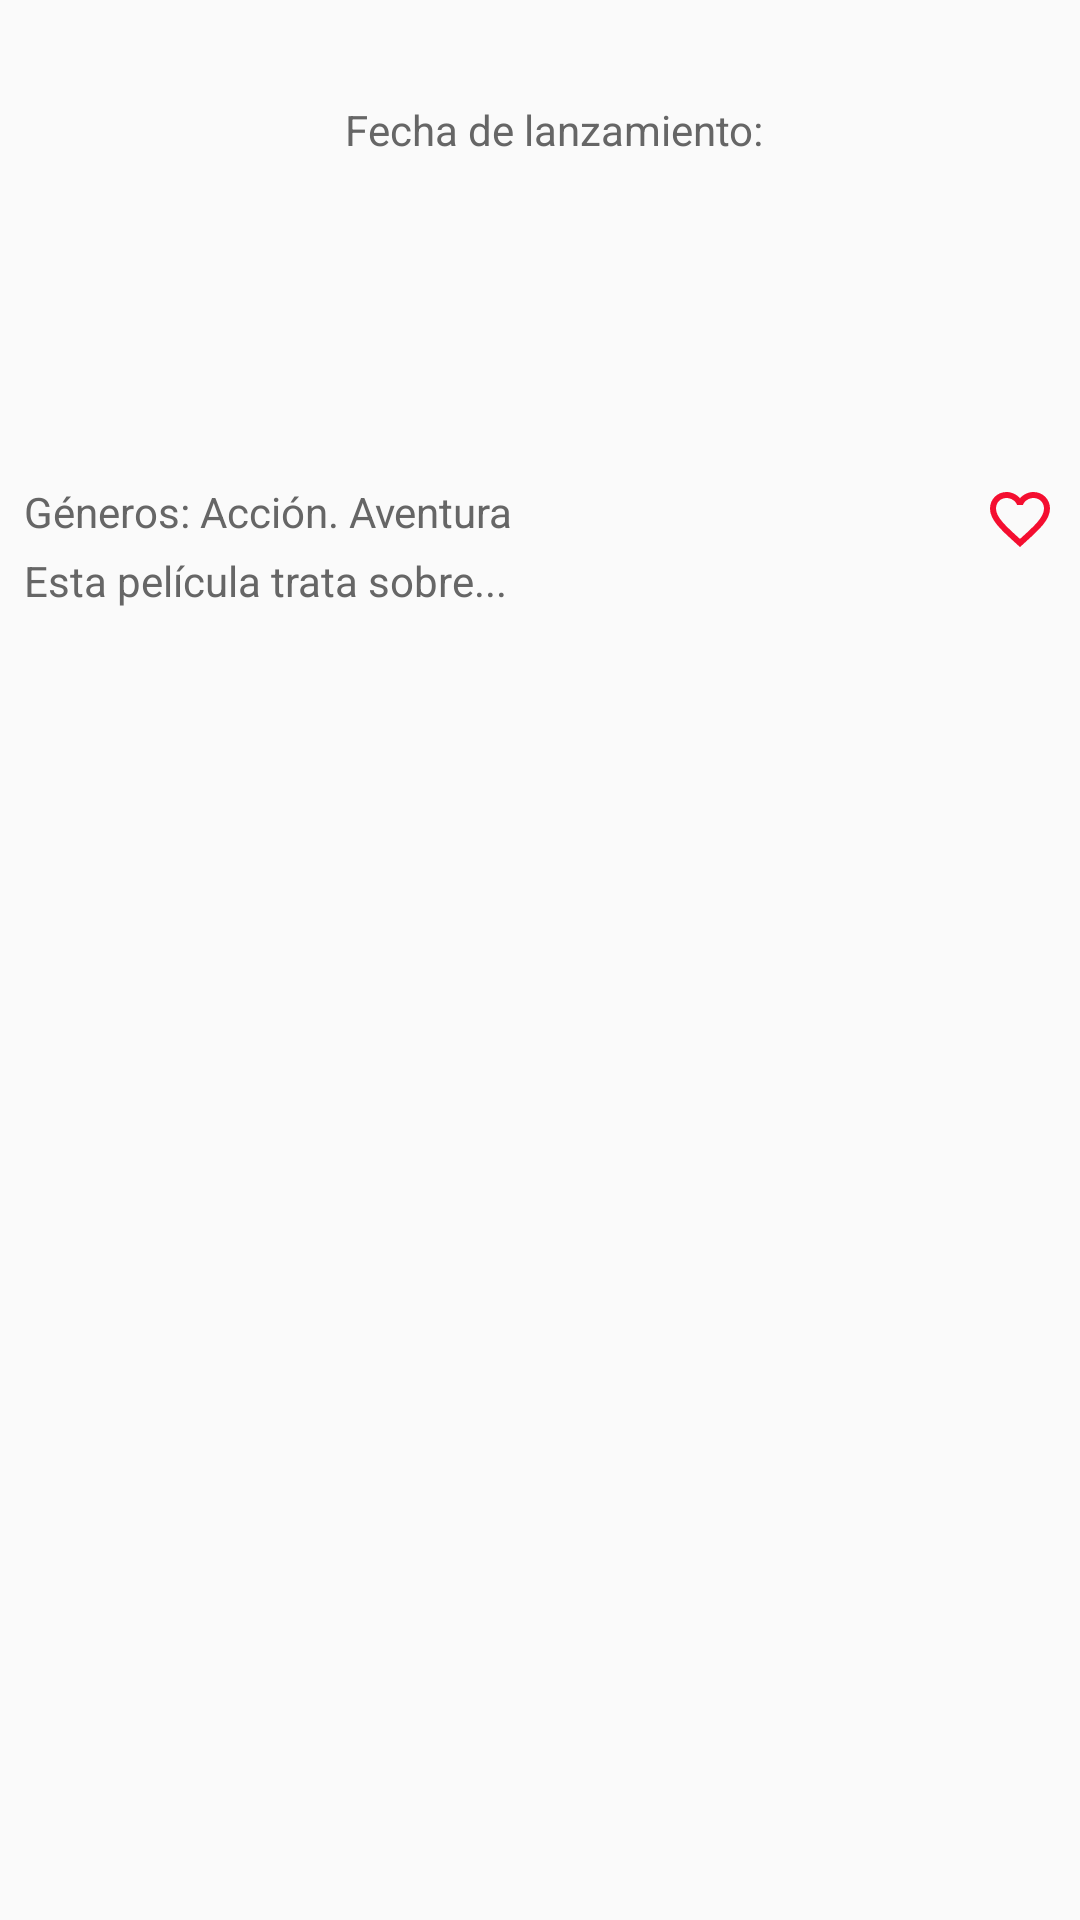

Locate icon controls on the screen. Image size 1080 × 1920, boxes as (x1, y1, x2, y2).
Favorite button: (990, 492, 1050, 547)
